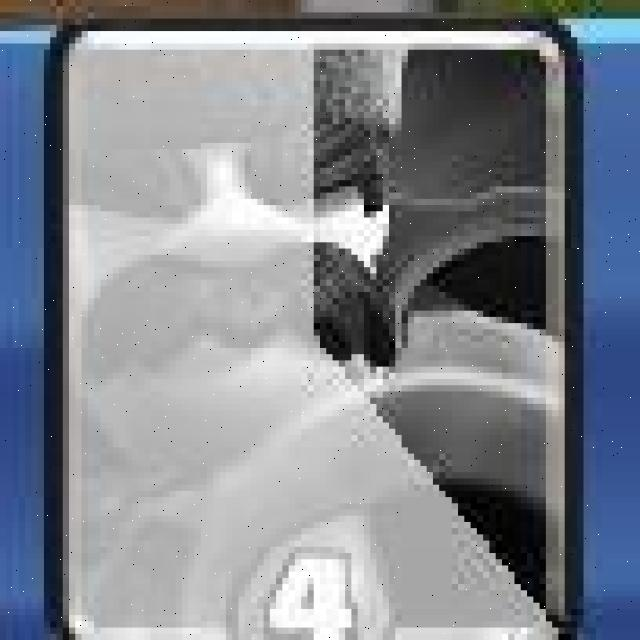Hunter: (52, 18, 573, 640)
